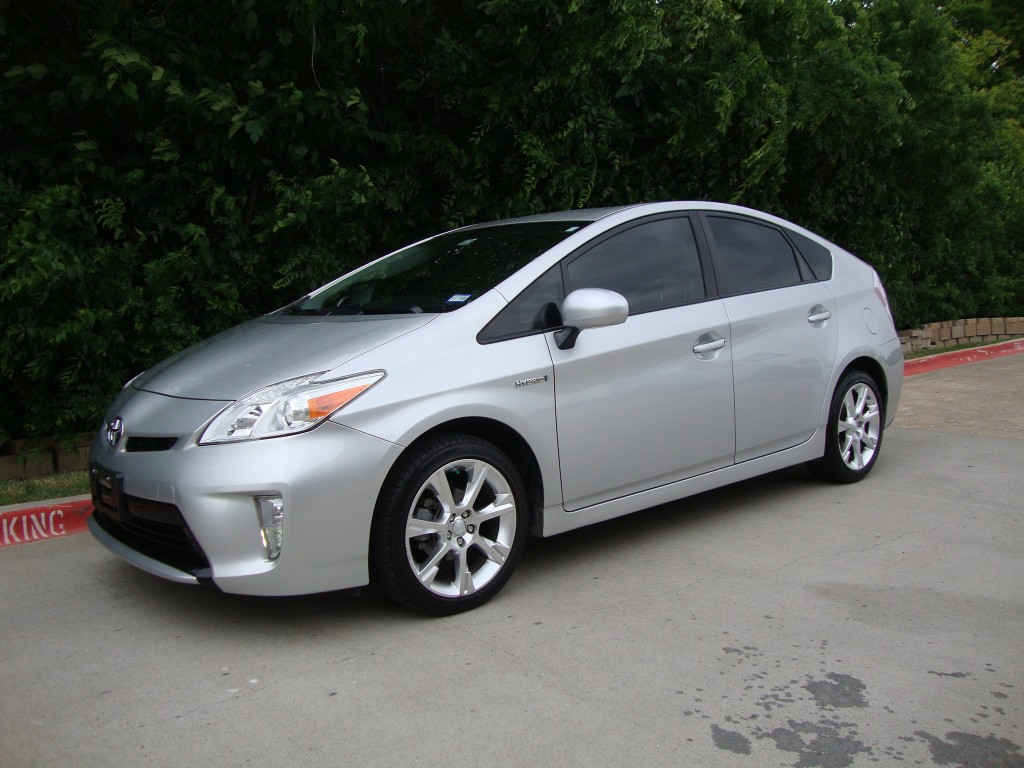Toyota Prius: (78, 193, 908, 619)
